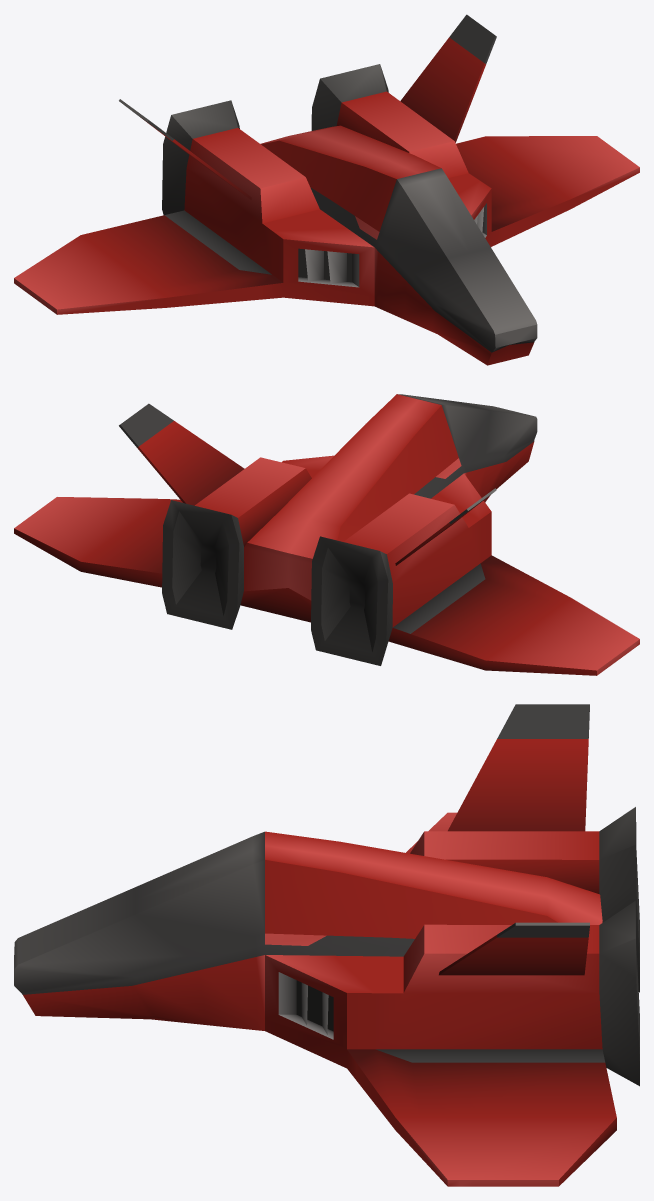
Rendered from Spaceship.fbx.
3 renders of one model, top to bottom at view 1: azimuth 30°, elevation 25°; view 2: azimuth 150°, elevation 25°; view 3: azimuth 270°, elevation 25°, orthographic. The views are drawn at different scales.
Parts seen in each view (by area): view 1: SpaceshipModel; view 2: SpaceshipModel; view 3: SpaceshipModel.
Boxes of the visible parts, <box> form: SpaceshipModel: <box>14,14,639,365</box>; SpaceshipModel: <box>14,394,639,675</box>; SpaceshipModel: <box>14,704,639,1186</box>.
Size of the model in its own units: 515 by 134 by 371.
